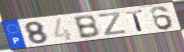4: (53, 17, 74, 41)
6: (150, 5, 175, 32)
8: (24, 20, 51, 45)
B: (72, 14, 102, 40)
T: (124, 9, 145, 32)
Z: (97, 11, 128, 36)
